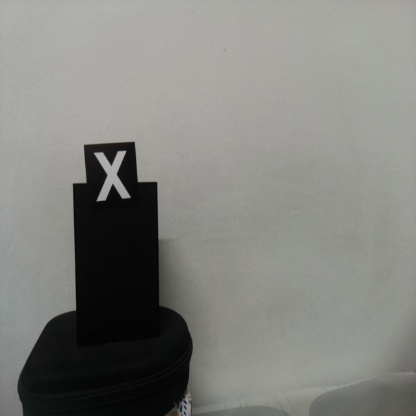id_13: (84, 144, 138, 211)
